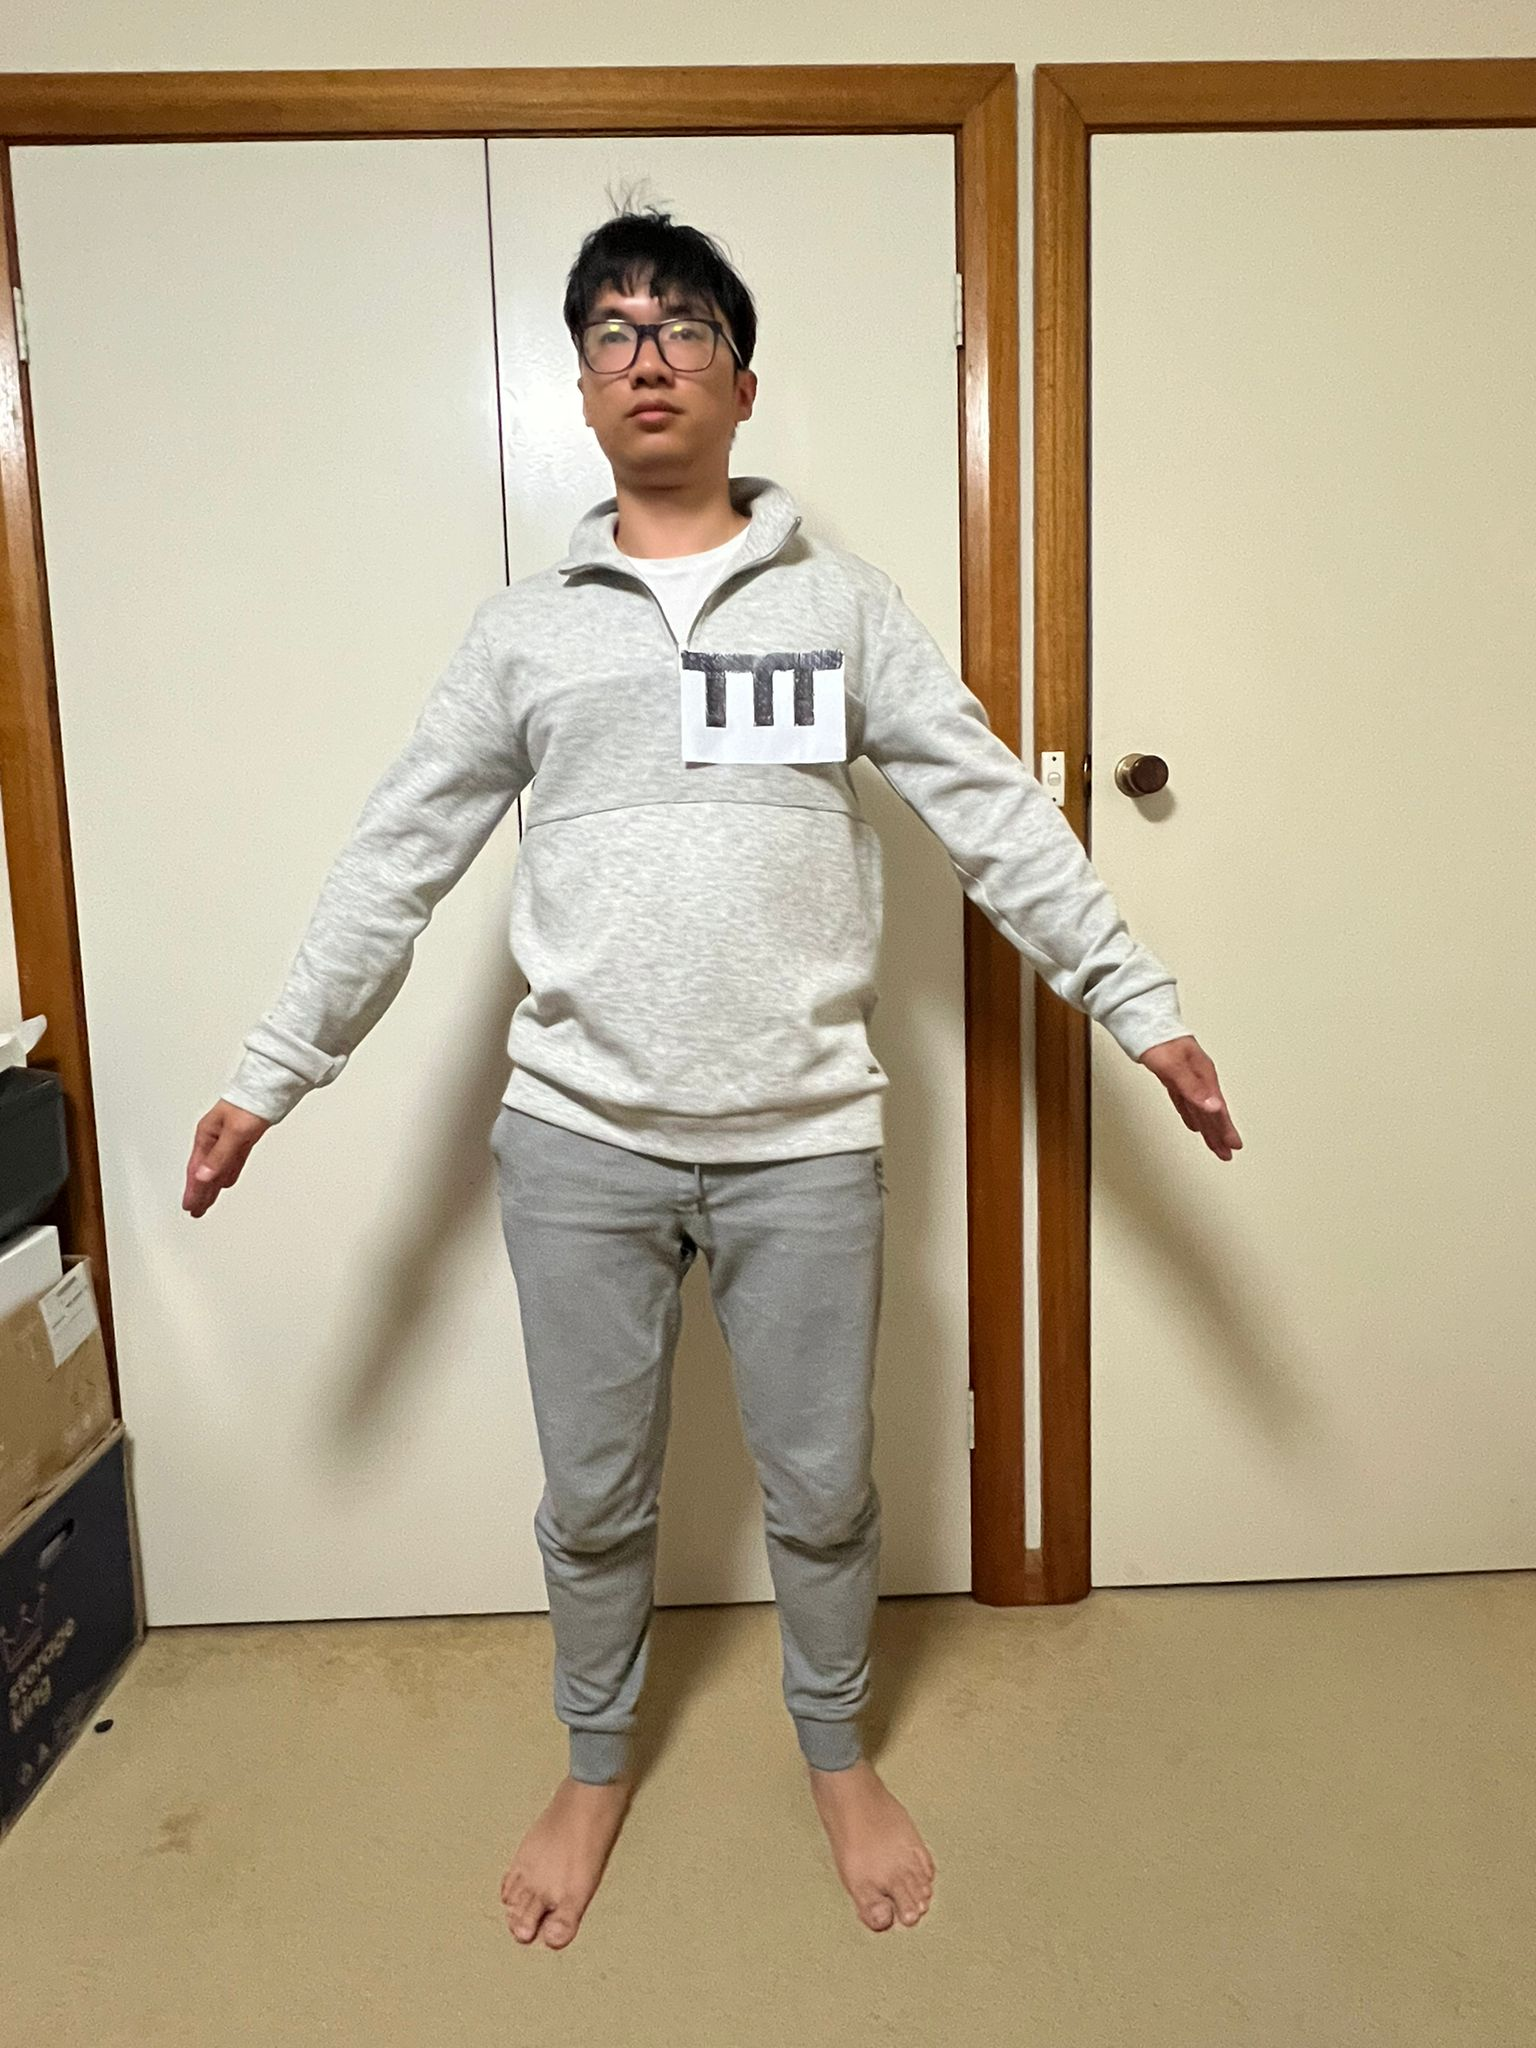Staff: (666, 635, 873, 789)
